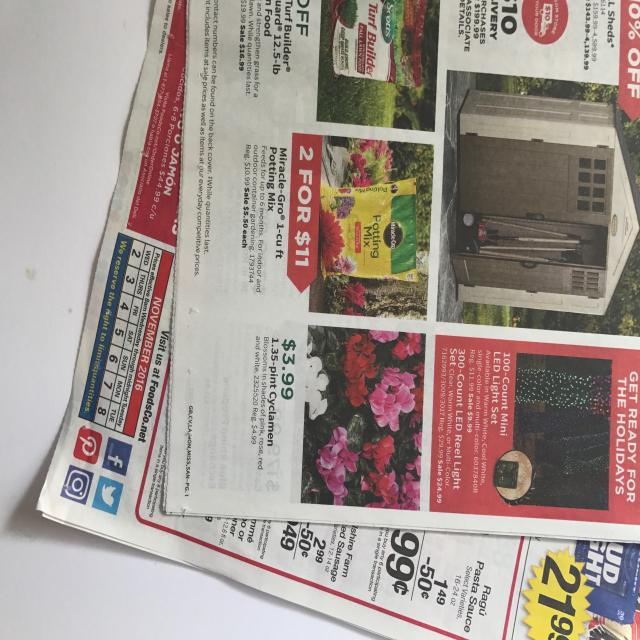paper: (35, 0, 639, 639)
